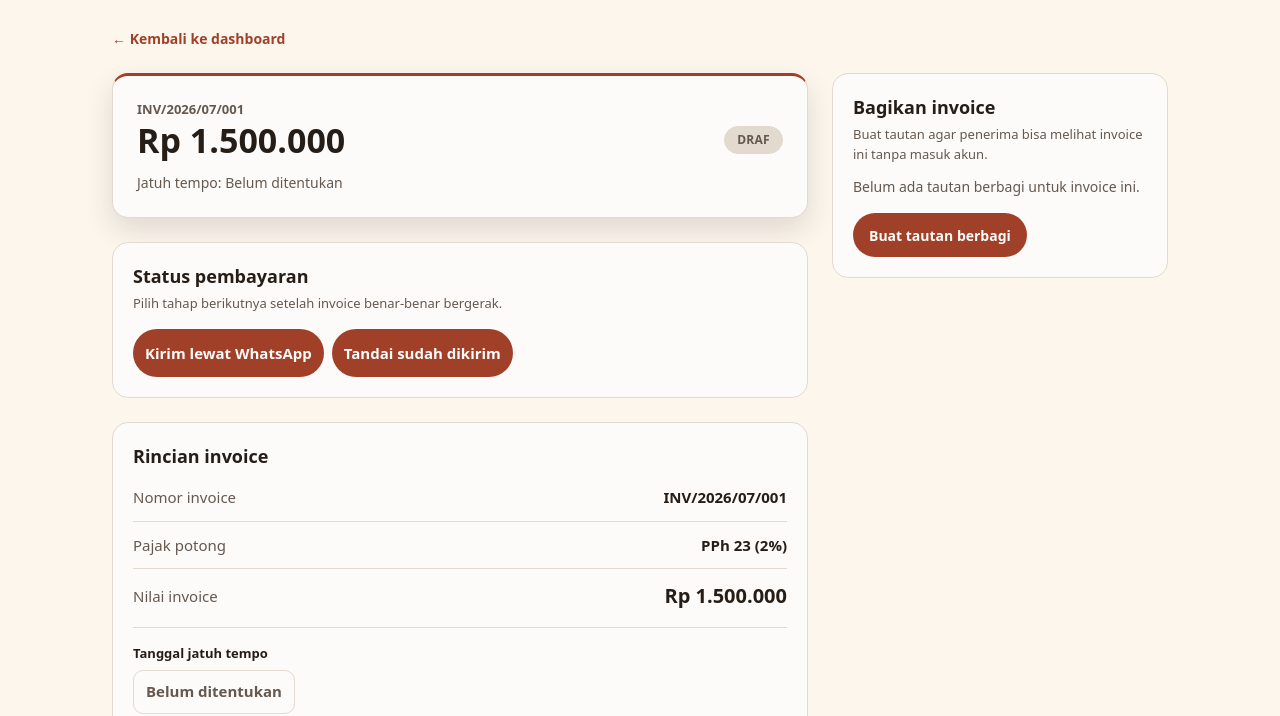
Test: InvoiceDetailClient › Tanggal jatuh tempo di bagian Rincian (T-20) › shows a controlled Bahasa error and keeps the previous date when the due date update fails
The width and height of the screenshot is (1280, 716).
Expected: the button "Buat tautan berbagi" is shown, [853,213,1027,257]
In the date field labelled "Tanggal jatuh tempo": (200, 653) [133,644,268,662], type "2026-08-15"
(page scrolled)
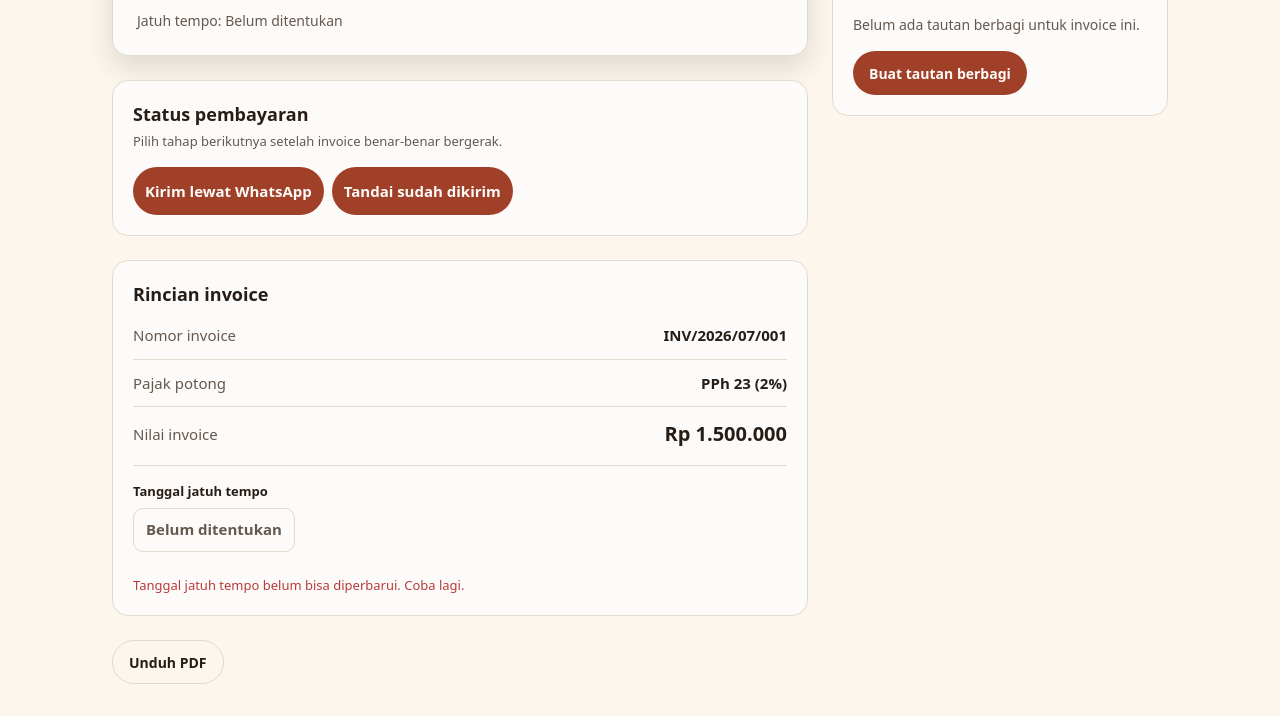
Now the message reads "Tanggal jatuh tempo belum bisa diperbarui. Coba lagi.", box [133,576,464,594]
